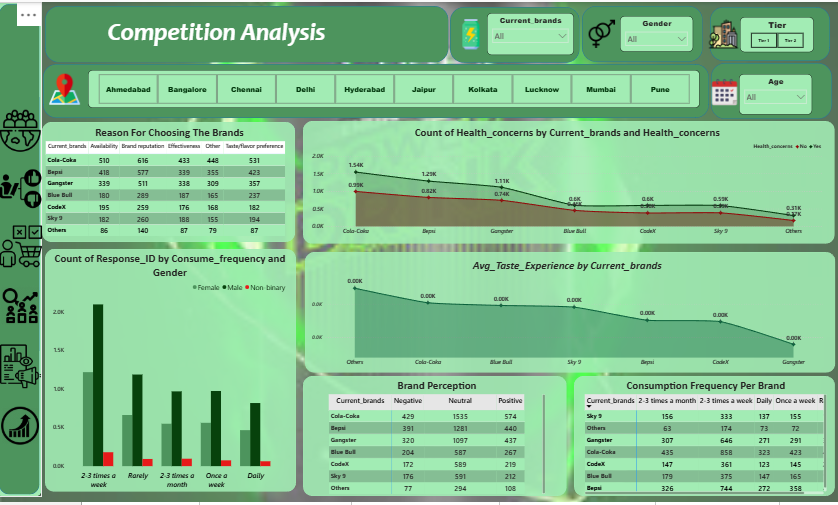

What the dashboard file says about the page in this screenshot:
{"tool":"powerbi","page":{"name":"Competition Analysis","canvas":[2450,1450],"ordinal":3},"visuals":[{"type":"shape","box":[138,12,1170,164],"z":0},{"type":"shape","box":[133.4,179.8,1931.4,156.6],"z":1000},{"type":"shape","box":[0,0,129.2,1434.2],"z":2000},{"type":"shape","box":[1696,12,350,162],"z":3000},{"type":"shape","box":[1314,14,376,162],"z":4000},{"type":"shape","box":[2067.7,14.5,348,156.6],"z":5000},{"type":"shape","box":[2070.6,176.9,350.9,162.4],"z":6000},{"type":"shape","box":[130,348,734,348],"z":7000},{"type":"shape","box":[140,716,728,704],"z":8000},{"type":"shape","box":[888.5,1083.5,764.5,348],"z":9000},{"type":"shape","box":[1674.1,1083.5,756.6,348],"z":10000},{"type":"clusteredColumnChart","fields":{"Series":["dim_repondents.Gender"],"Y":["CountNonNull(fact_survey_responses.Response_ID)"],"Category":["fact_survey_responses.Consume_frequency"]},"box":[156,726,690,694],"z":11000},{"type":"shape","box":[888,344,1542,356],"z":12000},{"type":"pivotTable","title":"Reason For Choosing The Brands","fields":{"Rows":["fact_survey_responses.Current_brands"],"Values":["CountNonNull(dim_repondents.Respondent_ID)"],"Columns":["fact_survey_responses.Reasons_for_choosing_brands"]},"box":[136,360,728,328],"z":13000},{"type":"slicer","fields":{"Values":["dim_cities.City"]},"box":[264,198,1774,110],"z":14000},{"type":"slicer","title":"Age","fields":{"Values":["dim_repondents.Age"]},"box":[2152,208,212,118],"z":15000},{"type":"slicer","title":"Tier","fields":{"Values":["dim_cities.Tier"]},"box":[2156,44,214,102],"z":16000},{"type":"slicer","title":"Gender","fields":{"Values":["dim_repondents.Gender"]},"box":[1806,40,212,104],"z":17000},{"type":"slicer","title":"Current_brands","fields":{"Values":["fact_survey_responses.Current_brands"]},"box":[1422,32,252,122],"z":18000},{"type":"textbox","box":[197.2,34.8,878.7,118.9],"z":19000},{"type":"shape","box":[892,726,1538,350],"z":20000},{"type":"pivotTable","title":"Brand Perception","fields":{"Rows":["fact_survey_responses.Current_brands"],"Values":["CountNonNull(dim_repondents.Respondent_ID)"],"Columns":["fact_survey_responses.Brand_perception"]},"box":[957,1093.3,638,339.3],"z":21000},{"type":"lineChart","fields":{"Category":["fact_survey_responses.Current_brands"],"Y":["CountNonNull(fact_survey_responses.Health_concerns)"],"Series":["fact_survey_responses.Health_concerns"]},"box":[908,360,1492,326],"z":22000},{"type":"lineChart","fields":{"Category":["fact_survey_responses.Current_brands"],"Y":["fact_survey_responses.Avg_Taste_Experience"]},"box":[908,746,1492,320],"z":23000},{"type":"pivotTable","title":"Consumption Frequency Per  Brand","fields":{"Rows":["fact_survey_responses.Current_brands"],"Values":["CountNonNull(dim_repondents.Respondent_ID)"],"Columns":["fact_survey_responses.Consume_frequency"]},"box":[1698,1092,712,340],"z":24000},{"type":"image","box":[0,817.6,134.4,126],"z":25000},{"type":"image","box":[2.8,1167.6,128.8,120.4],"z":26000},{"type":"image","box":[1324,40,98,106],"z":27000},{"type":"image","box":[2060,40,96,104],"z":28000},{"type":"image","box":[1708,46,92,92],"z":29000},{"type":"image","box":[2066,214,90,94],"z":30000},{"type":"image","box":[146,202,102,100],"z":31000},{"type":"image","box":[2.8,308,128.8,131.6],"z":32000},{"type":"image","box":[0,470.4,137.2,142.8],"z":33000},{"type":"image","box":[0,638.4,137.2,140],"z":34000},{"type":"image","box":[0,985.6,137.2,140],"z":35000}]}

Visuals, with their boxes in screenshot pixels (x1, y1, x2, y2), scaled from the page's 2450x1450 canvas onto the 838x505 screenshot:
shape: crop(47, 4, 447, 61)
shape: crop(46, 63, 706, 117)
shape: crop(0, 0, 44, 499)
shape: crop(580, 4, 700, 61)
shape: crop(449, 5, 578, 61)
shape: crop(707, 5, 826, 60)
shape: crop(708, 62, 828, 118)
shape: crop(44, 121, 296, 242)
shape: crop(48, 249, 297, 495)
shape: crop(304, 377, 565, 499)
shape: crop(573, 377, 831, 499)
clusteredColumnChart - dim_repondents.Gender x CountNonNull(fact_survey_responses.Response_ID): crop(53, 253, 289, 495)
shape: crop(304, 120, 831, 244)
"Reason For Choosing The Brands" pivotTable: crop(47, 125, 296, 240)
slicer - dim_cities.City: crop(90, 69, 697, 107)
"Age" slicer: crop(736, 72, 809, 114)
"Tier" slicer: crop(737, 15, 811, 51)
"Gender" slicer: crop(618, 14, 690, 50)
"Current_brands" slicer: crop(486, 11, 573, 54)
textbox: crop(67, 12, 368, 54)
shape: crop(305, 253, 831, 375)
"Brand Perception" pivotTable: crop(327, 381, 546, 499)
lineChart - fact_survey_responses.Current_brands x CountNonNull(fact_survey_responses.Health_concerns): crop(311, 125, 821, 239)
lineChart - fact_survey_responses.Current_brands x fact_survey_responses.Avg_Taste_Experience: crop(311, 260, 821, 371)
"Consumption Frequency Per  Brand" pivotTable: crop(581, 380, 824, 499)
image: crop(0, 285, 46, 329)
image: crop(1, 407, 45, 449)
image: crop(453, 14, 486, 51)
image: crop(705, 14, 737, 50)
image: crop(584, 16, 616, 48)
image: crop(707, 75, 737, 107)
image: crop(50, 70, 85, 105)
image: crop(1, 107, 45, 153)
image: crop(0, 164, 47, 214)
image: crop(0, 222, 47, 271)
image: crop(0, 343, 47, 392)
